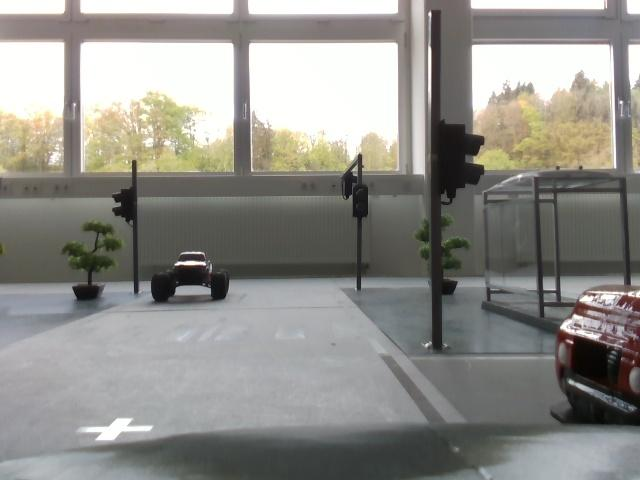car: (542, 275, 640, 432), (144, 245, 240, 313)
potted plant: (412, 209, 471, 299), (60, 218, 116, 299)
traffic light: (434, 127, 486, 200), (115, 186, 144, 227), (355, 184, 371, 216), (345, 173, 360, 193), (347, 195, 351, 203)
